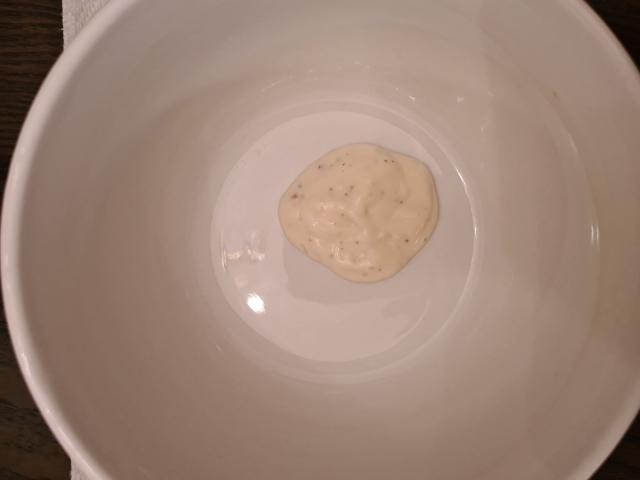kichen waste: (277, 142, 440, 282)
